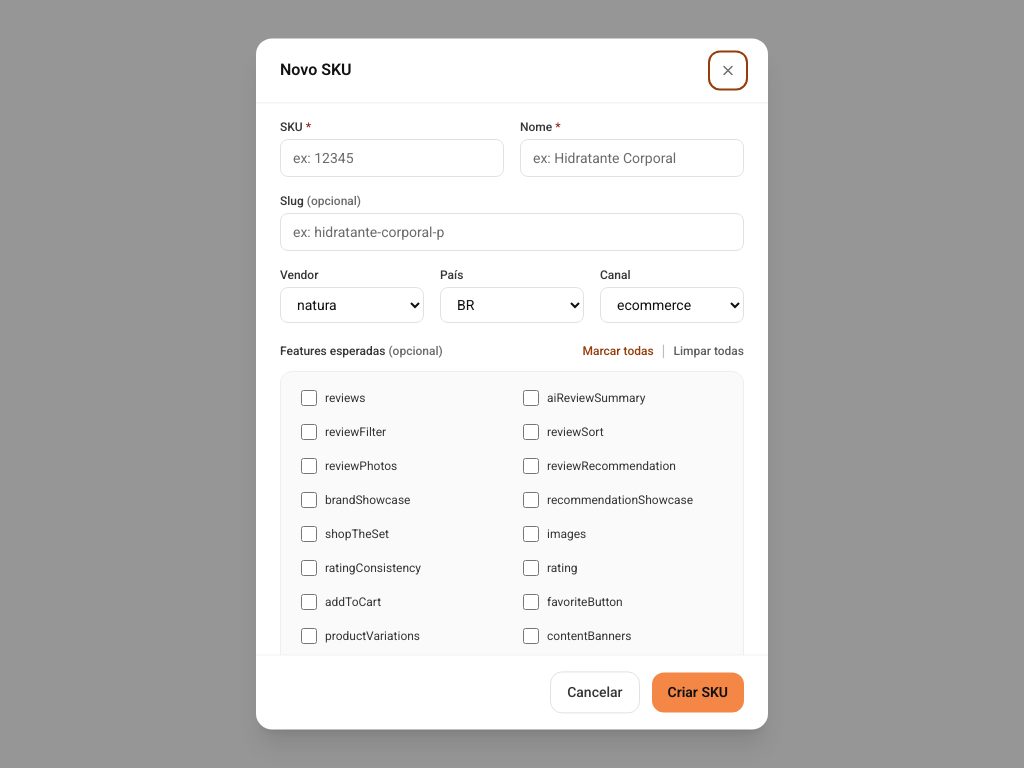
Test: SkuForm › exibe erro de validação quando SKU está vazio
The image size is (1024, 768).
In the field labelled "Nome *": {"x": 632, "y": 158} left=520, top=139, right=744, bottom=177, type "Produto"
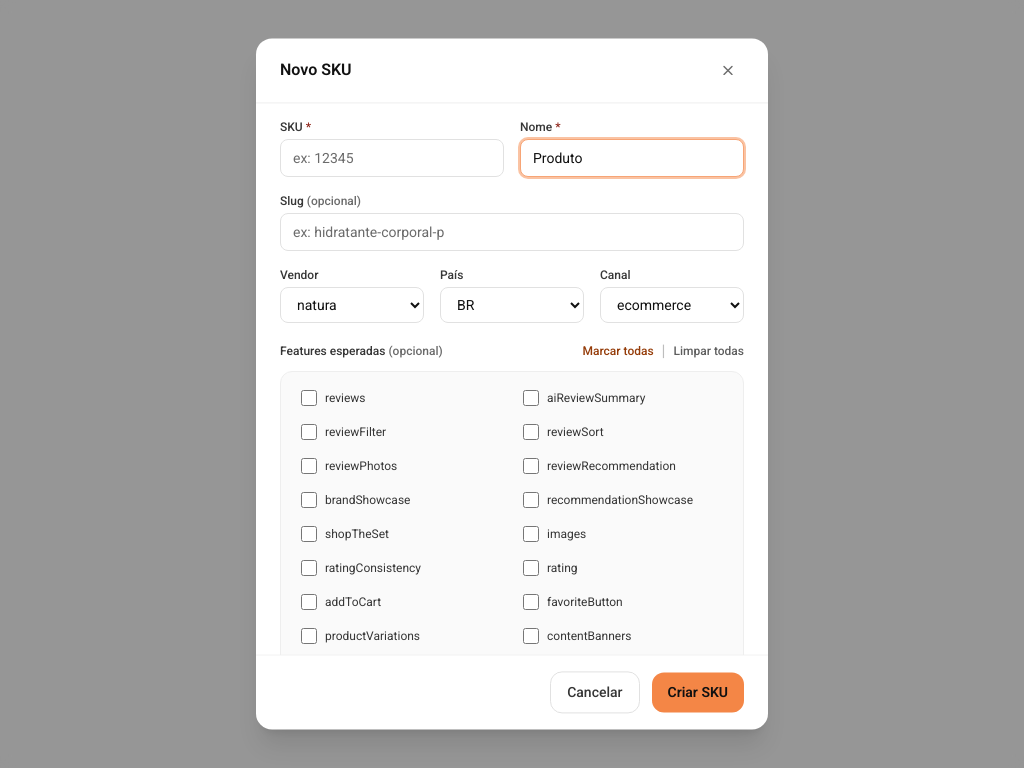
Click the button "Criar SKU": {"x": 698, "y": 693} left=652, top=673, right=744, bottom=713
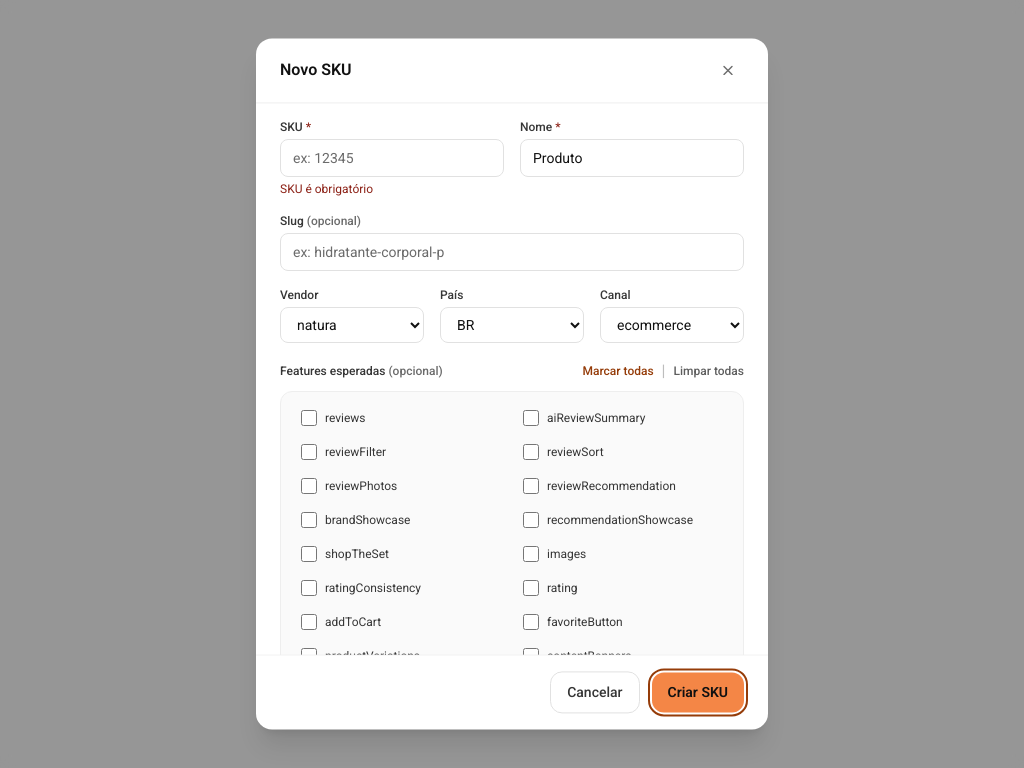
Now the text "SKU é obrigatório" is shown, box left=280, top=182, right=373, bottom=196
